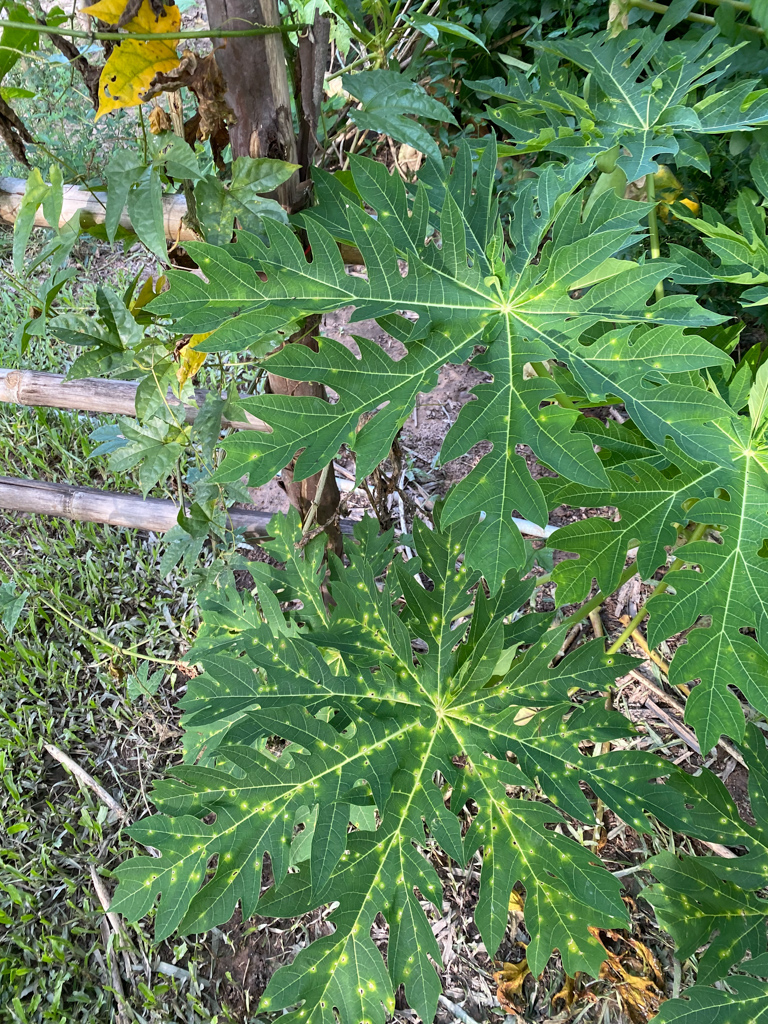Alternaria brassicicola: (415, 674, 512, 759), (135, 827, 247, 897), (325, 720, 423, 793), (351, 601, 418, 695), (524, 875, 596, 962), (192, 776, 318, 825), (571, 750, 651, 825), (478, 794, 539, 891), (351, 827, 409, 924), (429, 531, 470, 653), (270, 521, 322, 616), (495, 391, 556, 471), (514, 717, 592, 777), (248, 634, 322, 695), (662, 892, 764, 936), (708, 797, 768, 870), (293, 949, 393, 991), (600, 330, 666, 380), (514, 273, 558, 317), (400, 940, 430, 984)
